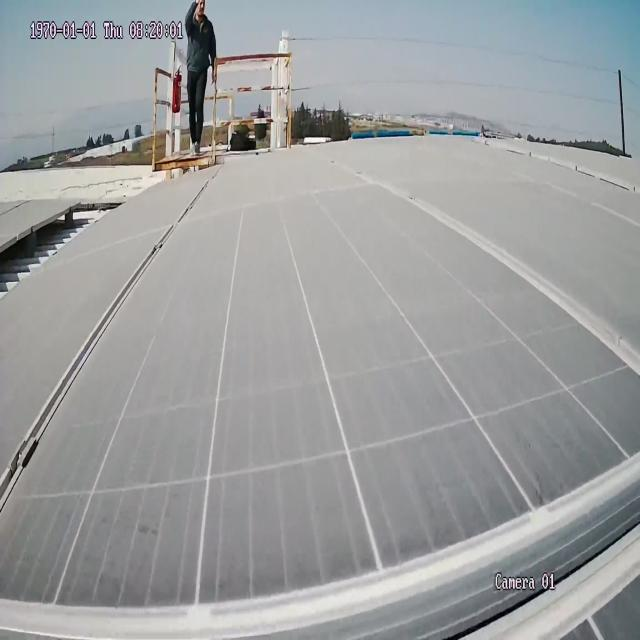interior panel: (0, 177, 640, 640)
outher panel: (1, 197, 131, 295)
